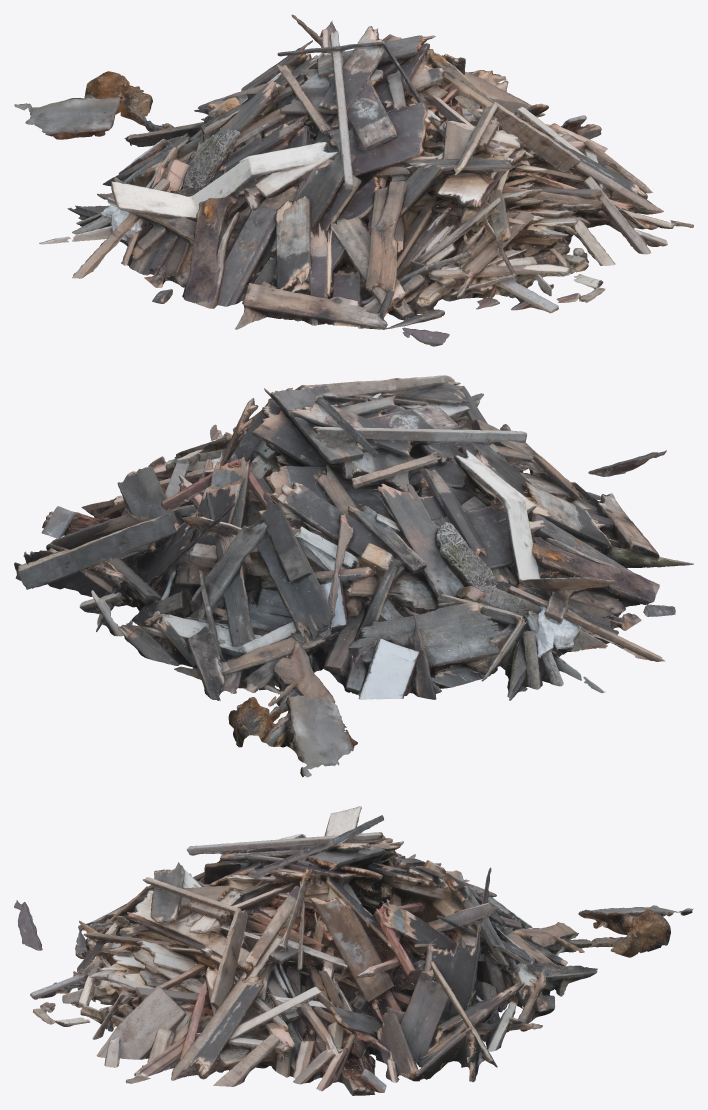
File: sf-waste-construction-lumber-c30447.glb
3 renders of one model, top to bottom at view 1: azimuth 30°, elevation 25°; view 2: azimuth 150°, elevation 25°; view 3: azimuth 270°, elevation 25°, orthographic. The views are drawn at different scales.
Visible parts, largest first — view 1: Model_material0_0, Model_material2_0, Model_material1_0; view 2: Model_material0_0, Model_material2_0, Model_material1_0; view 3: Model_material1_0, Model_material0_0, Model_material2_0.
Part boxes in pixels (box(x1,y1,x2,y2)): Model_material0_0: box(39, 23, 667, 341); Model_material2_0: box(32, 14, 693, 335); Model_material1_0: box(14, 20, 663, 346); Model_material0_0: box(17, 376, 693, 747); Model_material2_0: box(19, 378, 666, 765); Model_material1_0: box(14, 375, 675, 777); Model_material1_0: box(18, 806, 693, 1082); Model_material0_0: box(14, 815, 670, 1095); Model_material2_0: box(16, 808, 675, 1095).
Size of the model in its own units: 27.98 by 8.02 by 32.03.
Materials: 3 (3 with a texture image).
